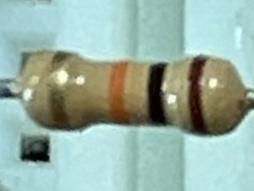Black: (146, 62, 173, 127)
Brown: (186, 56, 213, 135)
Orange: (107, 58, 133, 124)
Side-Gold: (49, 50, 76, 131)
